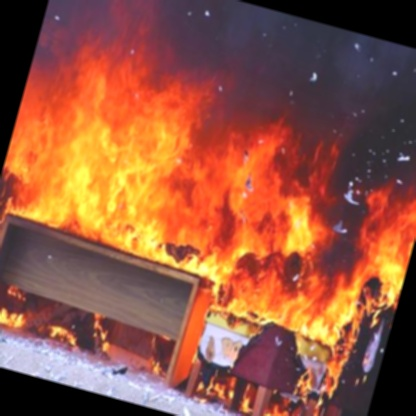fire: (0, 62, 416, 384)
